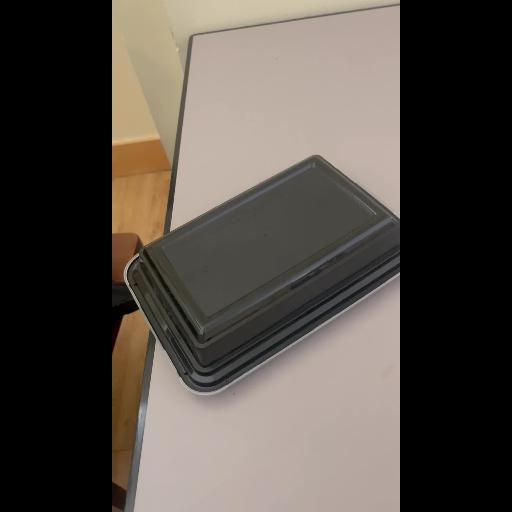rigid_plastic_container: (126, 157, 400, 391)
